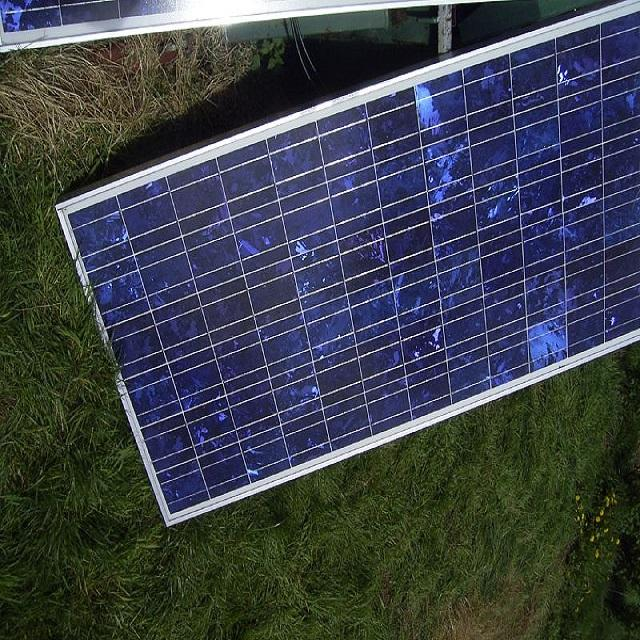no faulty: (70, 7, 635, 523)
